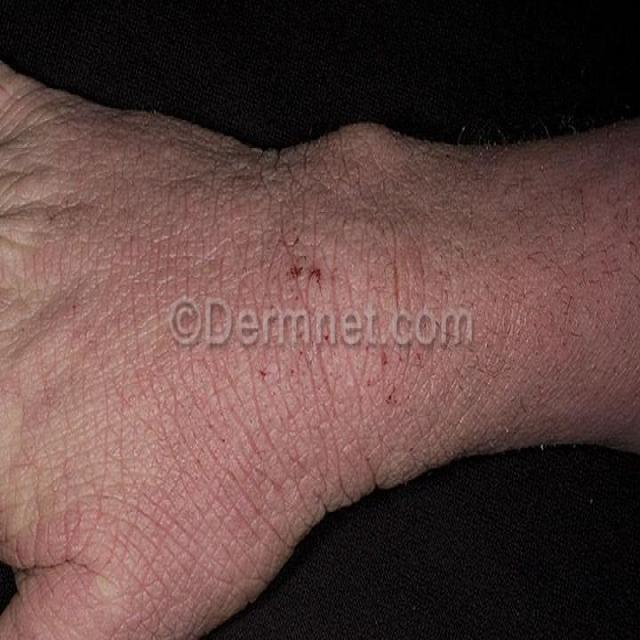liquenificacion 1: (4, 77, 528, 639)
liquenificacion 2: (4, 77, 528, 639)
liquenificacion 3: (4, 77, 528, 639)
